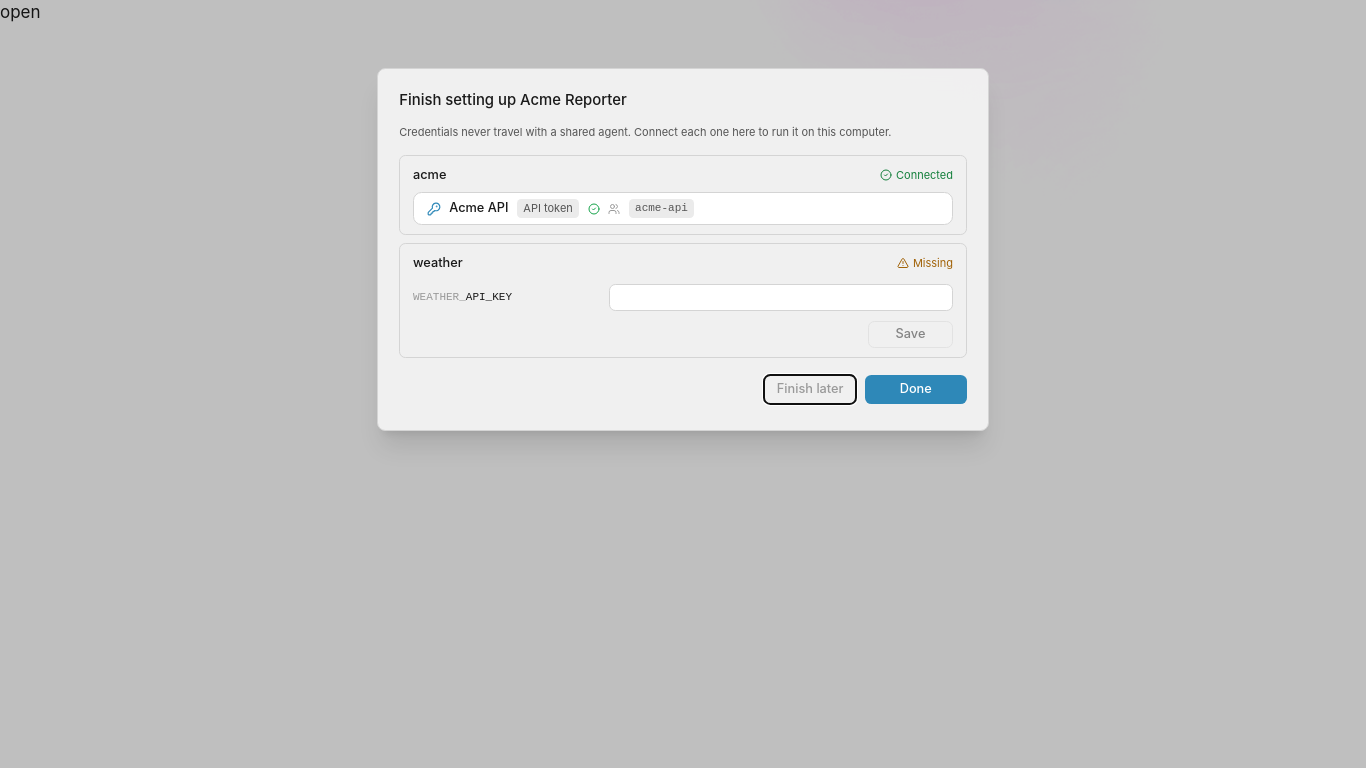
Test: Finish setup › keeps several agents asking, each until its own dialog closes
The width and height of the screenshot is (1366, 768).
Expected: the element with test id "finish-setup-slot-acme" is shown, x1=399 y1=155 x2=967 y2=235
Step 1. Click the button "Finish later" → [810, 390], box x1=764 y1=375 x2=856 y2=404
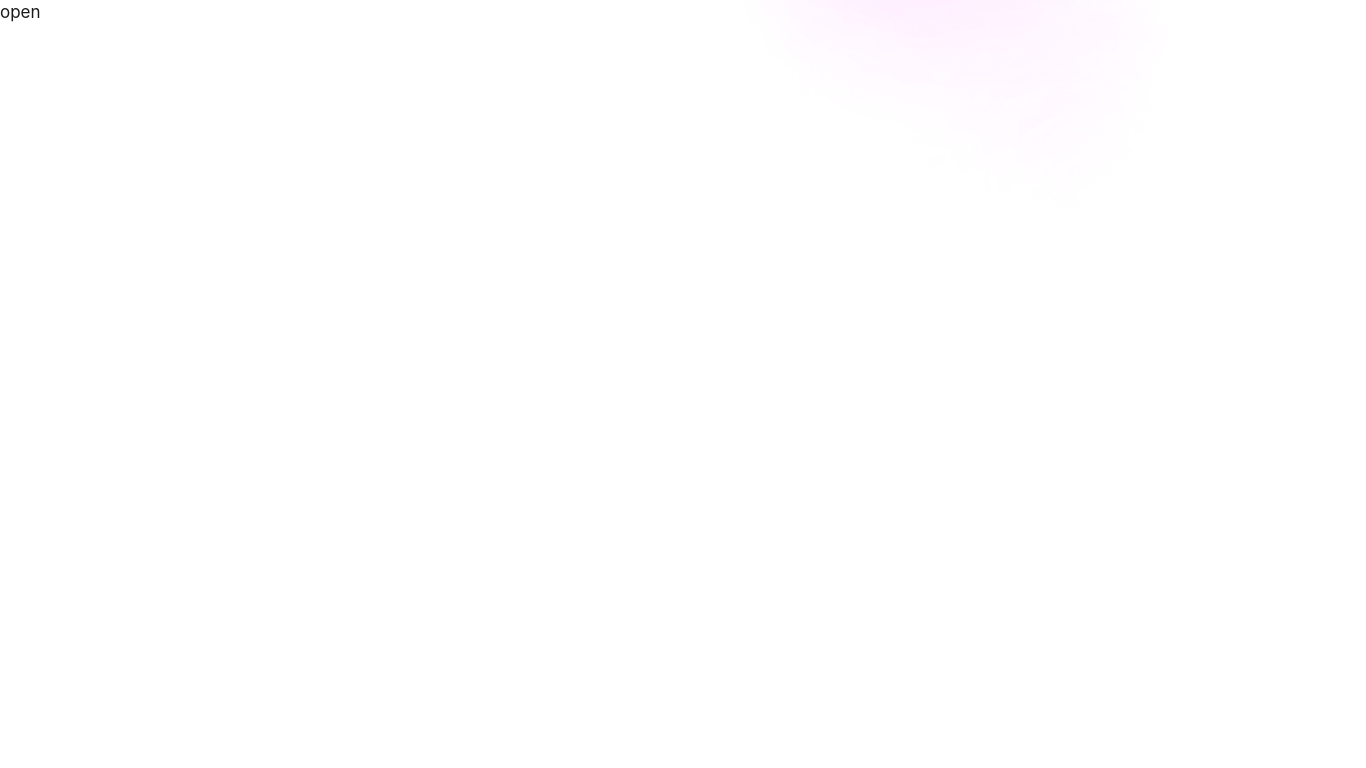
Result: the dialog is gone
